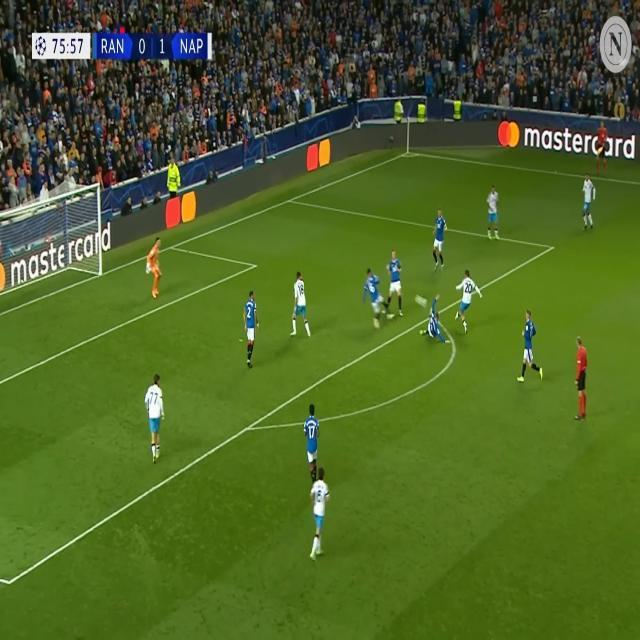ball: (412, 289, 430, 316)
goalkeeper: (142, 235, 168, 301)
player: (518, 305, 549, 400), (306, 467, 333, 563), (381, 237, 406, 329), (360, 264, 389, 342), (146, 362, 166, 468), (459, 262, 482, 341), (577, 168, 600, 243), (291, 265, 312, 343), (241, 289, 260, 373), (484, 181, 503, 251), (305, 400, 323, 472), (432, 208, 450, 272)
referee: (569, 324, 598, 433), (593, 115, 611, 175)
